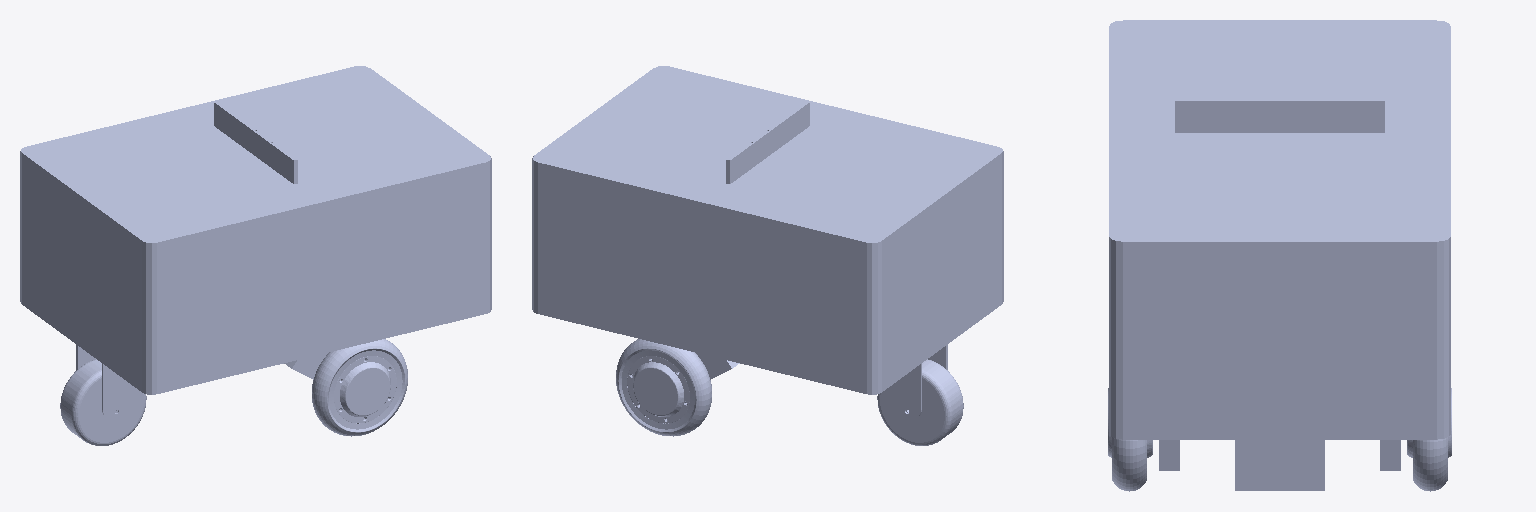
The robot description file, URDF, robot "berrybolt_car":
<?xml version="1.0" encoding="utf-8"?>
<!-- This URDF was automatically created by SolidWorks to URDF Exporter! Originally created by [author] ([email redacted]) 
     Commit Version: 1.6.0-4-g7f85cfe  Build Version: 1.6.7995.38578
     For more information, please see http://wiki.ros.org/sw_urdf_exporter -->
<robot
  name="berrybolt_car">
  <link
    name="chassis_link">
    <inertial>
      <origin
        xyz="0.123592573086514 -0.000127188237525444 0.148137442964577"
        rpy="0 0 0" />
      <mass
        value="118.906096574078" />
      <inertia
        ixx="3.40286199411556"
        ixy="0.000322047411634893"
        ixz="-0.0970981491313201"
        iyy="6.64502433986237"
        iyz="1.29900112892627E-15"
        izz="7.94958505891701" />
    </inertial>
    <visual>
      <origin
        xyz="0 0 0"
        rpy="0 0 0" />
      <geometry>
        <mesh
          filename="package://berrybolt_car/meshes/base_link.STL" />
      </geometry>
      <material
        name="">
        <color
          rgba="0.792156862745098 0.819607843137255 0.933333333333333 1" />
      </material>
    </visual>
    <collision>
      <origin
        xyz="0 0 0"
        rpy="0 0 0" />
      <geometry>
        <mesh
          filename="package://berrybolt_car/meshes/base_link.STL" />
      </geometry>
    </collision>
  </link>
  <link
    name="car_left_link">
    <inertial>
      <origin
        xyz="1.27883369924892E-07 1.99591727728654E-07 -0.397357591093793"
        rpy="0 0 0" />
      <mass
        value="1.69535777184176" />
      <inertia
        ixx="0.00408021086053147"
        ixy="4.70480393507961E-09"
        ixz="-2.06386271814498E-09"
        iyy="0.00408017836513792"
        iyz="2.27554090271651E-09"
        izz="0.00778124754632217" />
    </inertial>
    <visual>
      <origin
        xyz="0 0 0"
        rpy="0 0 0" />
      <geometry>
        <mesh
          filename="package://berrybolt_car/meshes/car_left_link.STL" />
      </geometry>
      <material
        name="">
        <color
          rgba="0.792156862745098 0.819607843137255 0.933333333333333 1" />
      </material>
    </visual>
    <collision>
      <origin
        xyz="0 0 0"
        rpy="0 0 0" />
      <geometry>
        <mesh
          filename="package://berrybolt_car/meshes/car_left_link.STL" />
      </geometry>
    </collision>
  </link>
  <joint
    name="car_left_joint"
    type="continuous">
    <origin
      xyz="0.028178 0.1823 -0.10008"
      rpy="1.5708 0 3.1416" />
    <parent
      link="chassis_link" />
    <child
      link="car_left_link" />
    <axis
      xyz="0 0 -1" />
    <limit
      effort="20"
      velocity="20" />
  </joint>
  <link
    name="car_right_link">
    <inertial>
      <origin
        xyz="1.60128715481767E-07 -1.1604035590751E-07 -0.397357584413733"
        rpy="0 0 0" />
      <mass
        value="1.69535732852865" />
      <inertia
        ixx="0.00408019028109774"
        ixy="3.35894090242273E-09"
        ixz="3.07080977027858E-09"
        iyy="0.00408020796298602"
        iyz="-3.5669070357386E-10"
        izz="0.00778125634877439" />
    </inertial>
    <visual>
      <origin
        xyz="0 0 0"
        rpy="0 0 0" />
      <geometry>
        <mesh
          filename="package://berrybolt_car/meshes/car_right_link.STL" />
      </geometry>
      <material
        name="">
        <color
          rgba="0.792156862745098 0.819607843137255 0.933333333333333 1" />
      </material>
    </visual>
    <collision>
      <origin
        xyz="0 0 0"
        rpy="0 0 0" />
      <geometry>
        <mesh
          filename="package://berrybolt_car/meshes/car_right_link.STL" />
      </geometry>
    </collision>
  </link>
  <joint
    name="car_right_joint"
    type="continuous">
    <origin
      xyz="0.028178 -0.1823 -0.10008"
      rpy="1.5708 0 0" />
    <parent
      link="chassis_link" />
    <child
      link="car_right_link" />
    <axis
      xyz="0 0 1" />
    <limit
      effort="20"
      velocity="20" />
  </joint>
  <link
    name="front_lidar_link">
    <!-- 作为纯坐标系的空链接：不包含可视与碰撞几何 -->
  </link>
  <joint
    name="front_lidar_joint"
    type="fixed">
    <origin
      xyz="0.658 0 0.08999999999999987"
      rpy="3.14159265358979 0 0" />
    <parent
      link="car_castor_link" />
    <child
      link="front_lidar_link" />
    <axis
      xyz="0 0 0" />
  </joint>
  <link
    name="car_castor_link">
    <inertial>
      <origin
        xyz="0 -7.28583859910259E-17 0.040798215379193"
        rpy="0 0 0" />
      <mass
        value="0.122429203673205" />
      <inertia
        ixx="0.000405340105920664"
        ixy="-5.58346913473303E-21"
        ixz="-6.39564810216737E-20"
        iyy="0.000236842664943871"
        iyz="2.13226211749419E-19"
        izz="0.000244605681982183" />
    </inertial>
    <visual>
      <origin
        xyz="0 0 0"
        rpy="0 0 0" />
      <geometry>
        <mesh
          filename="package://berrybolt_car/meshes/car_castor_link.STL" />
      </geometry>
      <material
        name="">
        <color
          rgba="0.792156862745098 0.819607843137255 0.933333333333333 1" />
      </material>
    </visual>
    <collision>
      <origin
        xyz="0 0 0"
        rpy="0 0 0" />
      <geometry>
        <mesh
          filename="package://berrybolt_car/meshes/car_castor_link.STL" />
      </geometry>
    </collision>
  </link>
  <joint
    name="car_castor_joint"
    type="fixed">
    <origin
      xyz="0.4569 0 -0.001"
      rpy="3.1416 0 3.1416" />
    <parent
      link="chassis_link" />
    <child
      link="car_castor_link" />
    <axis xyz="0 0 1" />
  </joint>
  <link
    name="car_castor_link1">
    <inertial>
      <origin
        xyz="5.55111512312578E-17 0 -0.03"
        rpy="0 0 0" />
      <mass
        value="1.14298831955974" />
      <inertia
        ixx="0.00219726083160743"
        ixy="-1.42271756636671E-19"
        ixz="6.58742118163083E-20"
        iyy="0.00219726083160743"
        iyz="1.55985458318603E-20"
        izz="0.00372856954499152" />
    </inertial>
    <visual>
      <origin
        xyz="0 0 0"
        rpy="0 0 0" />
      <geometry>
        <mesh
          filename="package://berrybolt_car/meshes/car_castor_link1.STL" />
      </geometry>
      <material
        name="">
        <color
          rgba="0.792156862745098 0.819607843137255 0.933333333333333 1" />
      </material>
    </visual>
    <collision>
      <origin
        xyz="0 0 0"
        rpy="0 0 0" />
      <geometry>
        <mesh
          filename="package://berrybolt_car/meshes/car_castor_link1.STL" />
      </geometry>
    </collision>
  </link>
  <joint
    name="car_castor_joint1"
    type="fixed">
    <origin
      xyz="0 0.03 0.12"
      rpy="-1.5708 0 0" />
    <parent
      link="car_castor_link" />
    <child
      link="car_castor_link1" />
    <axis xyz="0 0 -1" />
  </joint>
  <!-- Add transmissions for left/right drive joints (Velocity interface) -->
  <transmission name="left_wheel_transmission">
    <type>transmission_interface/SimpleTransmission</type>
    <joint name="car_left_joint">
      <hardwareInterface>hardware_interface/VelocityJointInterface</hardwareInterface>
    </joint>
    <actuator name="left_wheel_motor">
      <hardwareInterface>hardware_interface/VelocityJointInterface</hardwareInterface>
      <mechanicalReduction>1</mechanicalReduction>
    </actuator>
  </transmission>

  <transmission name="right_wheel_transmission">
    <type>transmission_interface/SimpleTransmission</type>
    <joint name="car_right_joint">
      <hardwareInterface>hardware_interface/VelocityJointInterface</hardwareInterface>
    </joint>
    <actuator name="right_wheel_motor">
      <hardwareInterface>hardware_interface/VelocityJointInterface</hardwareInterface>
      <mechanicalReduction>1</mechanicalReduction>
    </actuator>
  </transmission>

  <!-- Gazebo differential drive plugin (top-level) to publish odom and TF and consume /cmd_vel -->
  <gazebo>
    <plugin name="gazebo_ros_diff_drive" filename="libgazebo_ros_diff_drive.so">
      <leftJoint>car_left_joint</leftJoint>
      <rightJoint>car_right_joint</rightJoint>
      <wheelSeparation>0.46</wheelSeparation>
      <wheelDiameter>1.0</wheelDiameter>
      <torque>100.0</torque>
      <commandTopic>/cmd_vel</commandTopic>
      <odometryTopic>/odom</odometryTopic>
      <odometryFrame>odom</odometryFrame>
      <robotBaseFrame>base_link</robotBaseFrame>
      <publishTf>true</publishTf>
      <publishOdomTF>true</publishOdomTF>
      <updateRate>100</updateRate>
    </plugin>
  </gazebo>

  <!-- Gazebo laser sensor on front_lidar_link to publish /limo/scan -->
  <gazebo reference="front_lidar_link">
    <sensor type="ray" name="front_laser">
      <pose>0 0 0 0 0 0</pose>
      <visualize>false</visualize>
      <update_rate>20</update_rate>
      <ray>
        <scan>
          <horizontal>
            <samples>720</samples>
            <resolution>1</resolution>
            <min_angle>-1.57</min_angle>
            <max_angle>1.57</max_angle>
          </horizontal>
        </scan>
        <range>
          <min>0.05</min>
          <max>8.0</max>
          <resolution>0.01</resolution>
        </range>
        <noise>
          <type>gaussian</type>
          <stddev>0.01</stddev>
        </noise>
      </ray>
      <plugin name="gazebo_ros_laser" filename="libgazebo_ros_laser.so">
        <topicName>/limo/scan</topicName>
        <frameName>front_lidar_link</frameName>
      </plugin>
    </sensor>
  </gazebo>
  <!-- Add a standard-oriented base_link and connect to chassis_link by a fixed 180deg Z rotation -->
  <link name="base_link"/>
  <joint name="base_to_chassis" type="fixed">
    <parent link="base_link"/>
    <child link="chassis_link"/>
    <origin xyz="0 0 0" rpy="0 0 3.1416"/>
  </joint>
  <!-- Gazebo contact/friction tuning: drive wheels high grip -->
  <gazebo reference="car_left_link">
    <mu1>1.0</mu1>
    <mu2>1.0</mu2>
    <kp>100000.0</kp>
    <kd>1.0</kd>
    <maxVel>0.5</maxVel>
  </gazebo>
  <gazebo reference="car_right_link">
    <mu1>1.0</mu1>
    <mu2>1.0</mu2>
    <kp>100000.0</kp>
    <kd>1.0</kd>
    <maxVel>0.5</maxVel>
  </gazebo>
  <!-- Caster support: small tangential friction, high normal stiffness for support only -->
  <gazebo reference="car_castor_link">
    <mu1>0.10</mu1>
    <mu2>0.02</mu2>
    <slip1>1.0</slip1>
    <slip2>1.0</slip2>
    <kp>2000000.0</kp>
    <kd>100.0</kd>
    <minDepth>0.001</minDepth>
    <maxVel>0.05</maxVel>
  </gazebo>
  <gazebo reference="car_castor_link1">
    <mu1>0.10</mu1>
    <mu2>0.02</mu2>
    <slip1>1.0</slip1>
    <slip2>1.0</slip2>
    <kp>2000000.0</kp>
    <kd>100.0</kd>
    <minDepth>0.001</minDepth>
    <maxVel>0.05</maxVel>
  </gazebo>
</robot>

--- What the picture shows (computed from the rendered views, not written in the file) ---
The picture shows the robot from 3 angles, left to right: view 1: azimuth 30°, elevation 25°; view 2: azimuth 150°, elevation 25°; view 3: azimuth 270°, elevation 25°; orthographic projection.
Robot: berrybolt_car — 7 links, 6 joints (2 continuous, 4 fixed); root link base_link; default pose: every joint at zero.
Visible links, largest first — view 1: chassis_link, car_right_link, car_castor_link1, car_castor_link; view 2: chassis_link, car_left_link, car_castor_link1, car_castor_link; view 3: chassis_link, car_left_link, car_right_link.
Boxes of the visible links, left/top/right/bottom form: chassis_link: left=20, top=66, right=491, bottom=394; car_right_link: left=312, top=339, right=407, bottom=436; car_castor_link1: left=60, top=359, right=146, bottom=445; car_castor_link: left=76, top=345, right=130, bottom=417; chassis_link: left=532, top=66, right=1003, bottom=394; car_left_link: left=616, top=339, right=711, bottom=436; car_castor_link1: left=877, top=359, right=963, bottom=445; car_castor_link: left=893, top=345, right=947, bottom=417; chassis_link: left=1109, top=20, right=1450, bottom=490; car_left_link: left=1407, top=388, right=1451, bottom=491; car_right_link: left=1108, top=388, right=1152, bottom=491.
Bounding box of the posed robot: 0.785 × 0.493 × 0.5629 m (x, y, z).
5 mesh visuals loaded from 5 distinct referenced files (5 binary STL).
